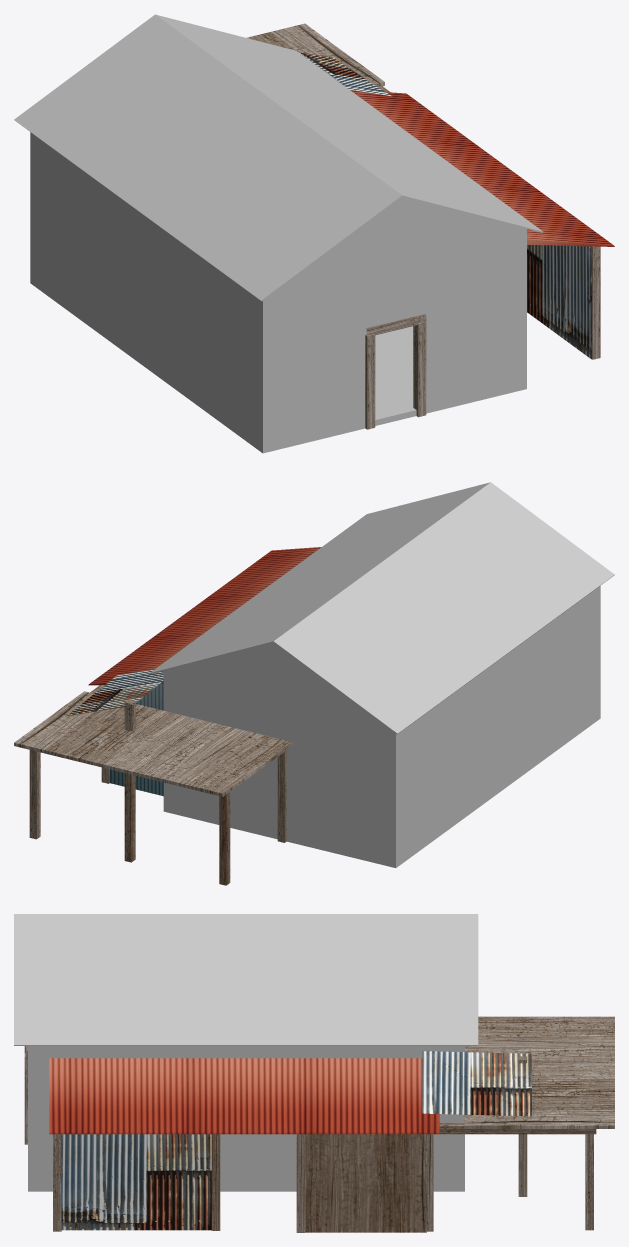
File: FarmBuilding1.fbx
The picture shows the model from 3 angles, top to bottom: view 1: azimuth 30°, elevation 25°; view 2: azimuth 150°, elevation 25°; view 3: azimuth 270°, elevation 25°; orthographic projection. The views are drawn at different scales.
Parts seen in each view (by area): view 1: FarmHouseShape3, SideHouseAddon, BackHouseAddon; view 2: FarmHouseShape3, BackHouseAddon, SideHouseAddon; view 3: FarmHouseShape3, SideHouseAddon, BackHouseAddon.
Boxes of the visible parts, x1,y1,x2,y2 form: FarmHouseShape3: [14, 14, 543, 453]; SideHouseAddon: [350, 90, 614, 359]; BackHouseAddon: [246, 23, 392, 96]; FarmHouseShape3: [149, 482, 614, 867]; BackHouseAddon: [14, 669, 293, 885]; SideHouseAddon: [88, 547, 321, 796]; FarmHouseShape3: [14, 914, 478, 1191]; SideHouseAddon: [49, 1058, 439, 1232]; BackHouseAddon: [422, 1016, 614, 1230].
Bounding box in the file's own units: 1123 × 666 × 1670.
